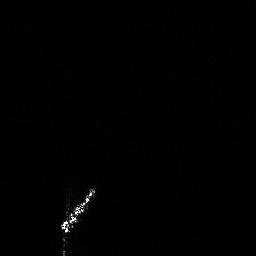ship: (55, 182, 100, 238)
